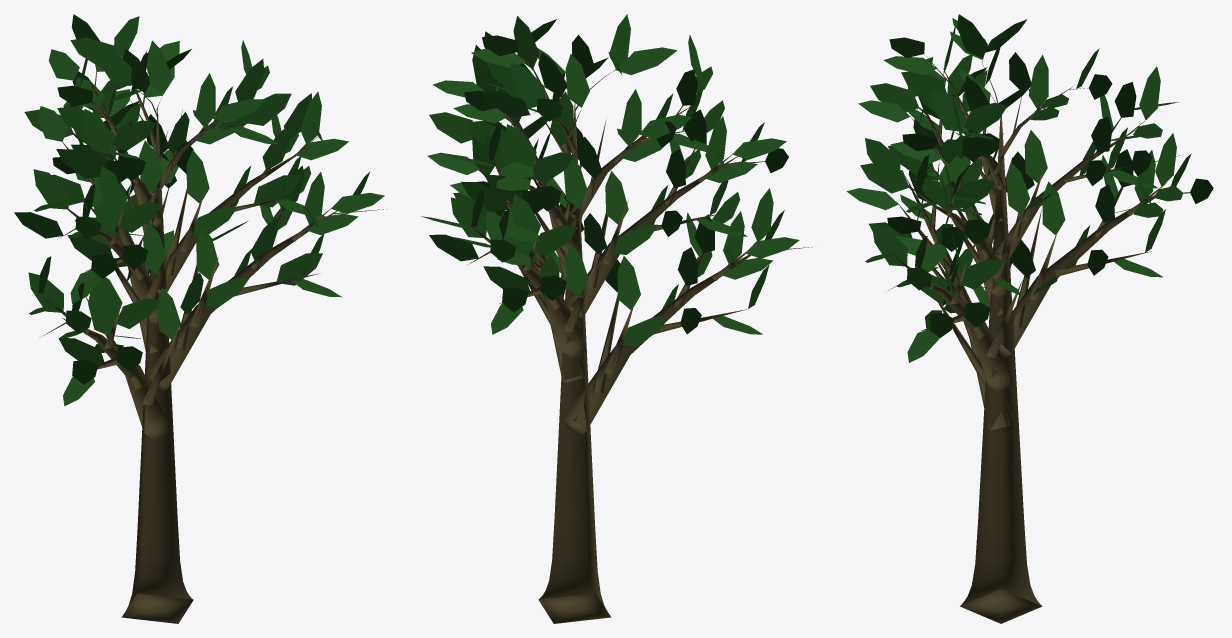
File: tree4.obj
3 views of the same model, side by side, from view 1: azimuth 30°, elevation 25°; view 2: azimuth 150°, elevation 25°; view 3: azimuth 270°, elevation 25° (orthographic).
Visible parts, largest first — view 1: tree4_leaves, tree4.001_stems, tree4.002_trunk; view 2: tree4_leaves, tree4.001_stems, tree4.002_trunk; view 3: tree4_leaves, tree4.002_trunk, tree4.001_stems.
Boxes of the visible parts, x1,y1,x2,y2 form: tree4_leaves: (14, 14, 384, 406); tree4.001_stems: (39, 65, 386, 440); tree4.002_trunk: (121, 106, 193, 623); tree4_leaves: (421, 14, 799, 346); tree4.001_stems: (464, 53, 812, 435); tree4.002_trunk: (538, 103, 611, 623); tree4_leaves: (847, 14, 1213, 362); tree4.002_trunk: (960, 103, 1042, 623); tree4.001_stems: (885, 56, 1213, 430).
Size of the model in its own units: 77.34 by 119 by 69.54.
